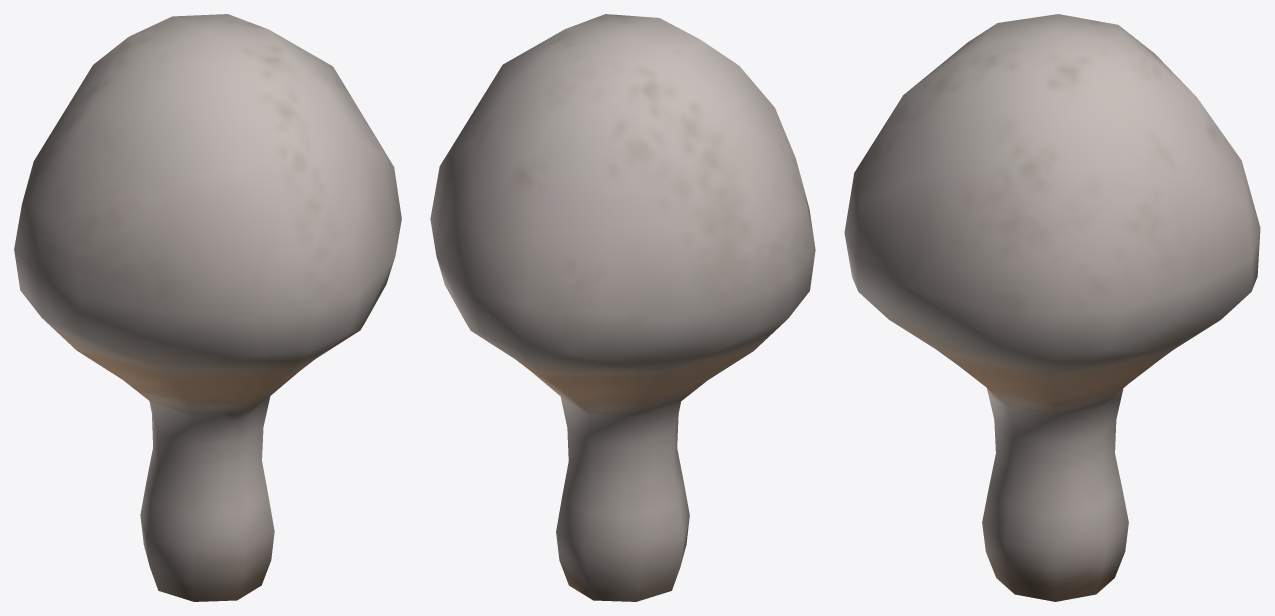
The model's file is PuffBall_001.fbx.
3 views of the same model, side by side, from view 1: azimuth 30°, elevation 25°; view 2: azimuth 150°, elevation 25°; view 3: azimuth 270°, elevation 25° (orthographic).
Visible parts, largest first — view 1: BuffBall_01_LOD0; view 2: BuffBall_01_LOD0; view 3: BuffBall_01_LOD0.
Boxes of the visible parts, left/top/right/bottom form: BuffBall_01_LOD0: left=14, top=14, right=401, bottom=601; BuffBall_01_LOD0: left=430, top=14, right=815, bottom=601; BuffBall_01_LOD0: left=844, top=14, right=1260, bottom=601.
Size of what is drawn, in the model's own units: 3.52 by 5.37 by 3.71.
